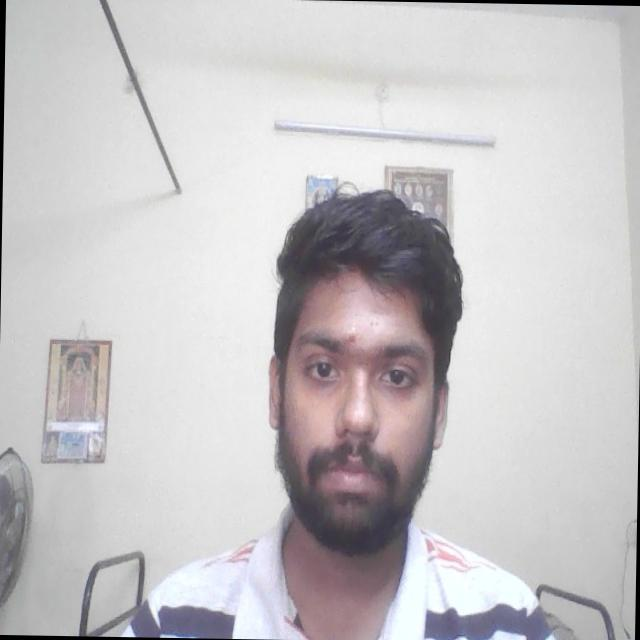Focused: (267, 283, 451, 532)
